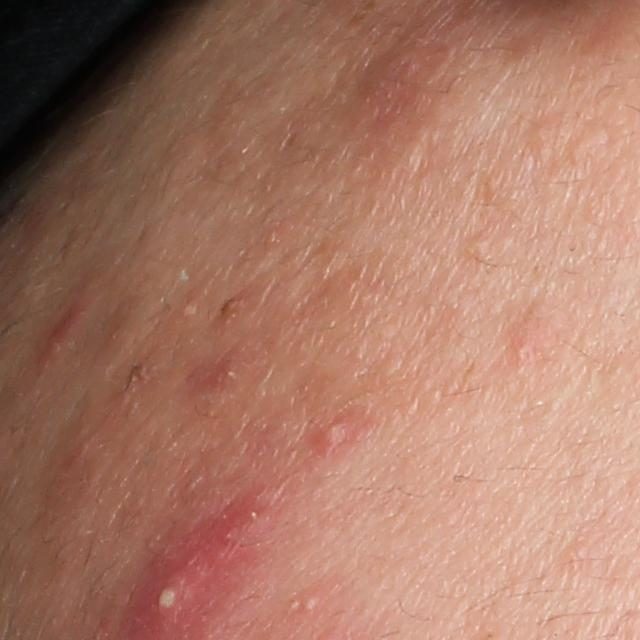comedo: (466, 236, 490, 260), (179, 301, 202, 319)
papule: (37, 298, 89, 373), (310, 414, 352, 457)
